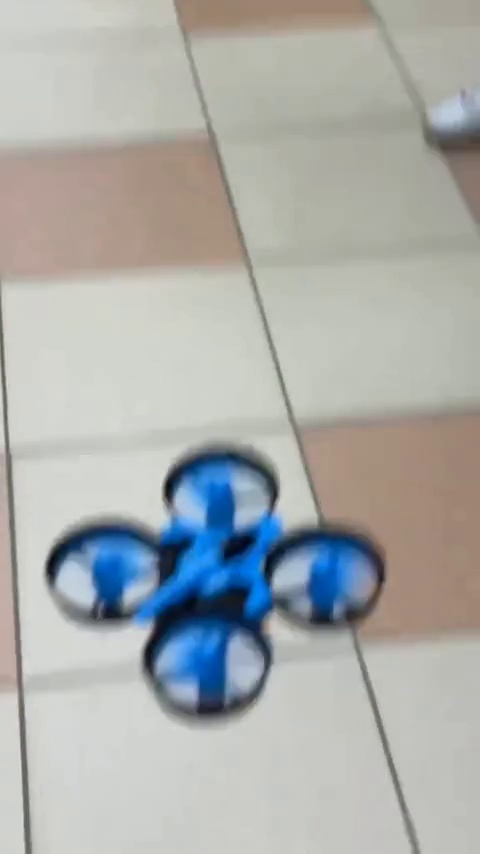drone: (47, 448, 388, 700)
